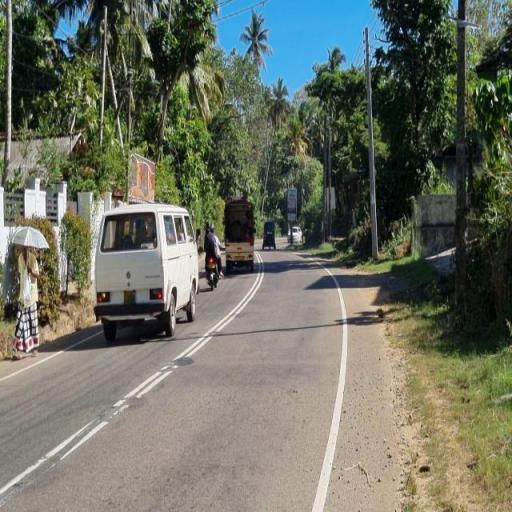double_white_line: (111, 254, 266, 418)
